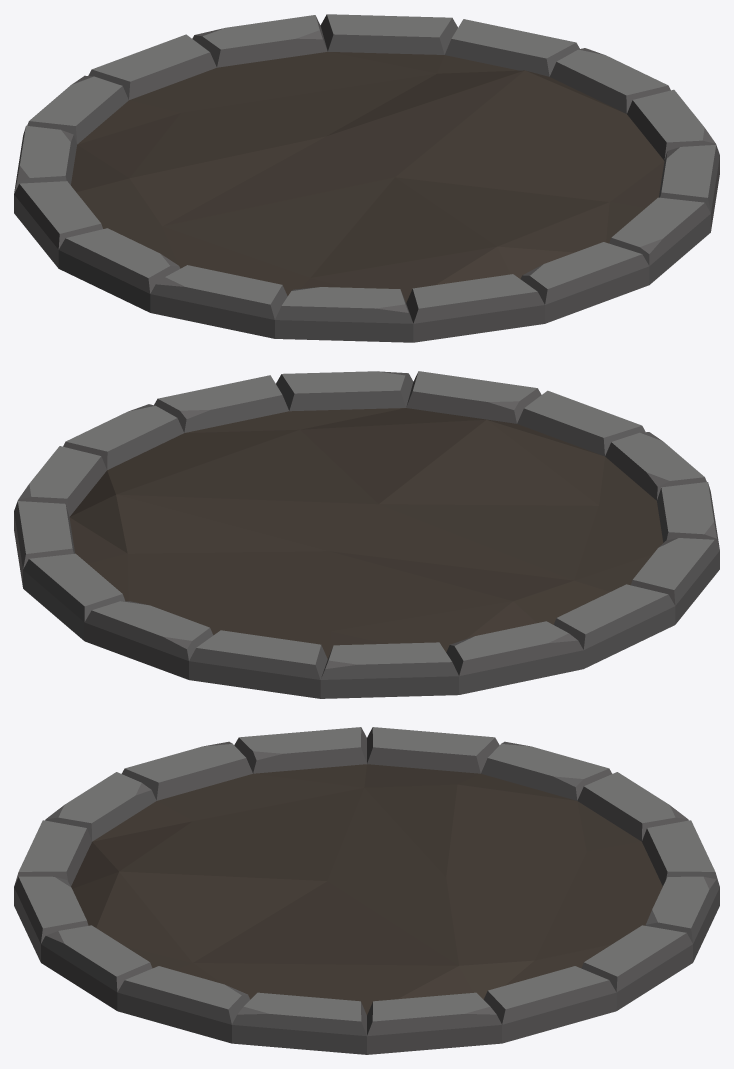
The model's file is SM_Prop_Fountain_Base_01.fbx.
3 views of the same model, one above another, from view 1: azimuth 30°, elevation 25°; view 2: azimuth 150°, elevation 25°; view 3: azimuth 270°, elevation 25° (orthographic).
Visible parts, largest first — view 1: SM_Prop_Fountain_Base_01; view 2: SM_Prop_Fountain_Base_01; view 3: SM_Prop_Fountain_Base_01.
Part boxes in pixels (x1,y1,x2,y2): SM_Prop_Fountain_Base_01: (14, 14, 719, 342); SM_Prop_Fountain_Base_01: (14, 371, 719, 698); SM_Prop_Fountain_Base_01: (14, 727, 719, 1054).
Bounding box in the file's own units: 242 × 14.71 × 242.
